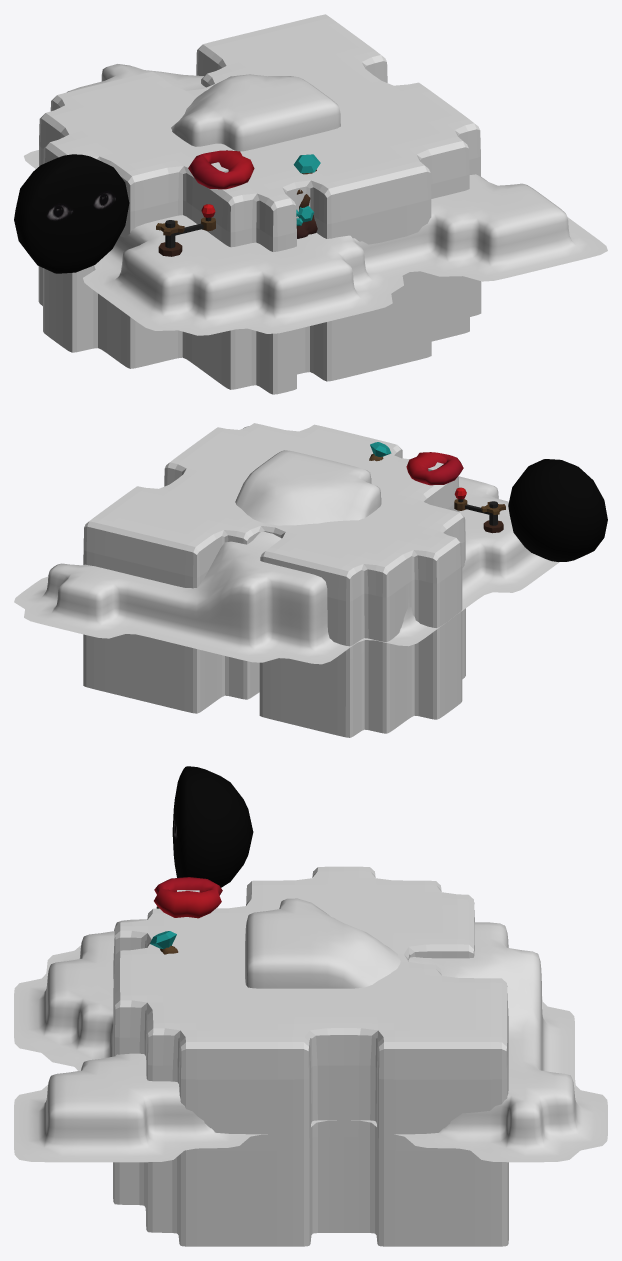
Rendered from terrain test project.fbx.
3 views of the same model, one above another, from view 1: azimuth 30°, elevation 25°; view 2: azimuth 150°, elevation 25°; view 3: azimuth 270°, elevation 25° (orthographic). The views are drawn at different scales.
Parts seen in each view (by area): view 1: Terrain2, Terrain, EnemyFace, FlowerMouth, Crank; view 2: Terrain2, Terrain, EnemyFace, FlowerMouth, Crank; view 3: Terrain2, Terrain, EnemyFace, FlowerMouth.
Part boxes in pixels (<box>): Terrain2: <box>38,14,481,394</box>; Terrain: <box>16,64,607,335</box>; EnemyFace: <box>14,154,129,273</box>; FlowerMouth: <box>188,150,254,189</box>; Crank: <box>156,204,215,256</box>; Terrain2: <box>83,423,465,737</box>; Terrain: <box>14,426,559,664</box>; EnemyFace: <box>508,459,607,561</box>; FlowerMouth: <box>406,452,463,485</box>; Crank: <box>454,487,505,533</box>; Terrain2: <box>113,866,508,1246</box>; Terrain: <box>14,898,607,1162</box>; EnemyFace: <box>172,766,253,887</box>; FlowerMouth: <box>154,877,222,918</box>.
Size of the model in its own units: 1902 by 886 by 1800.
